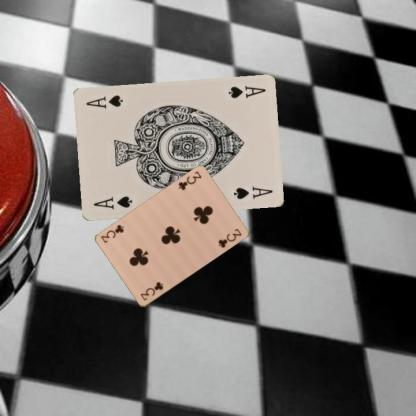3c: (138, 279, 164, 302), (176, 169, 202, 192)
As: (91, 193, 133, 211), (225, 83, 267, 100)
